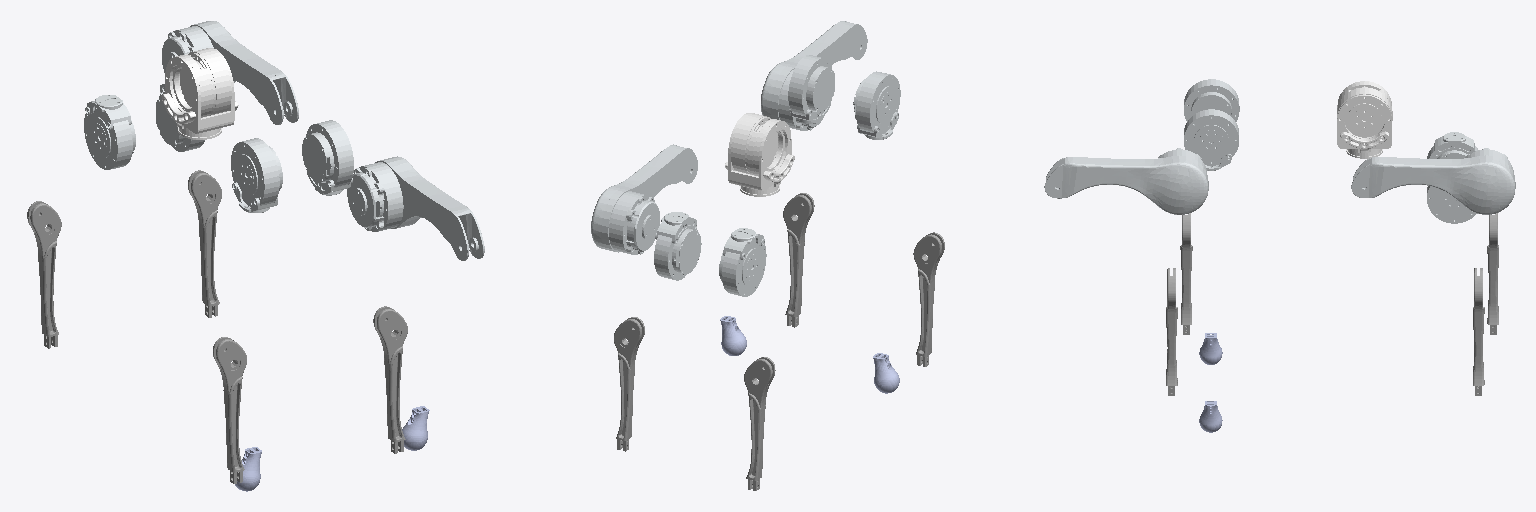
URDF robot description (Stray):
<?xml version="1.0" encoding="utf-8"?>
<!-- This URDF was automatically created by SolidWorks to URDF Exporter! Originally created by Stephen Brawner ([email redacted]) 
     Commit Version: 1.6.0-4-g7f85cfe  Build Version: 1.6.7995.38578
     For more information, please see http://wiki.ros.org/sw_urdf_exporter -->
<robot
  name="Stray">
  <link
    name="base_link">
    <visual>
      <origin
        xyz="0 0 0"
        rpy="-1.57 0 0" />
      <geometry>
        <mesh
          filename="../meshes_new/base_link.dae" scale="1.0 1.0 1.0" />
      </geometry>
      <!-- <geometry>
        <box size="0.01 0.02 0.03" />
      </geometry> -->
      <material
        name="">
        <color
          rgba="0.89804 0.91765 0.92941 1" />
      </material>
    </visual>
    <collision>
      <origin
        xyz="0 0 0"
        rpy="-1.57 0 0" />
      <geometry>
        <mesh
          filename="../meshes_new/base_link.dae" scale="1.0 1.0 1.0" />
      </geometry>
      <!-- <geometry>
        <cylinder length="0.01" radius="0.02"/>
      </geometry> -->
    </collision>
  </link>
  <!-- Fixed joint to add dummy inertia link -->
  <joint name="base_to_base_inertia" type="fixed">
    <parent link="base_link"/>
    <child link="base_inertia"/>
    <origin rpy="0 0 0" xyz="0 0 0"/>
  </joint>
  <!-- Dummy inertia link, because KDL cannot have inertia on the base link -->
  <link name="base_inertia">
    <inertial>
      <origin
        xyz="-0.00065101 -0.0025689 0.042689"
        rpy="0 0 0" />
      <mass
        value="3.7939" />
      <inertia
        ixx="0.0025246"
        ixy="5.361E-06"
        ixz="1.8395E-06"
        iyy="0.003934"
        iyz="-2.9363E-06"
        izz="0.0055285" />
    </inertial>
  </link>
  <link
    name="hip_LF">
    <inertial>
      <origin
        xyz="-0.00034836 -9.8322E-06 -0.051428"
        rpy="0 0 0" />
      <mass
        value="0.56862" />
      <inertia
        ixx="0.00060253"
        ixy="-3.1899E-08"
        ixz="3.42E-07"
        iyy="0.00032767"
        iyz="2.8857E-07"
        izz="0.00034334" />
    </inertial>
    <visual>
      <origin
        xyz="0 0 0"
        rpy="-1.57 0 0" />
      <geometry>
        <mesh
          filename="../meshes_new/hip_LF.dae" scale="1.0 1.0 1.0" />
      </geometry>
      <material
        name="">
        <color
          rgba="0.89804 0.91765 0.92941 1" />
      </material>
    </visual>
    <collision>
      <origin
        xyz="0 0 0"
        rpy="-1.57 0 0" />
      <geometry>
        <mesh
          filename="../meshes_new/hip_LF.dae" scale="1.0 1.0 1.0" />
      </geometry>
    </collision>
  </link>
  <joint
    name="hip_LF"
    type="revolute">
    <origin
      xyz="-0.06 0.028 0"
      rpy="1.5708 0 0" />
    <parent
      link="base_link" />
    <child
      link="hip_LF" />
    <axis
      xyz="0 0 -1" />
    <limit
      lower="-3.14"
      upper="3.14"
      effort="20"
      velocity="20" />
  </joint>
  <link
    name="thigh_LF">
    <inertial>
      <origin
        xyz="-0.04374 -0.026921 0.0040332"
        rpy="0 0 0" />
      <mass
        value="1.0889" />
      <inertia
        ixx="0.0034008"
        ixy="3.1205E-05"
        ixz="-4.541E-06"
        iyy="0.00068847"
        iyz="0.00024795"
        izz="0.0028056" />
    </inertial>
    <visual>
      <origin
        xyz="0 0 0"
        rpy="-1.57 0 0" />
      <geometry>
        <mesh
          filename="../meshes_new/thigh_LF.dae" scale="1.0 1.0 1.0" />
      </geometry>
      <material
        name="">
        <color
          rgba="0.89804 0.91765 0.92941 1" />
      </material>
    </visual>
    <collision>
      <origin
        xyz="0 0 0"
        rpy="0 0 0" />
      <geometry>
        <mesh
          filename="../meshes_new/thigh_LF.dae" scale="1.0 1.0 1.0" />
      </geometry>
    </collision>
  </link>
  <joint
    name="thigh_LF"
    type="revolute">
    <origin
      xyz="-0.016 -9.395E-05 -0.055"
      rpy="0 0 0" />
    <parent
      link="hip_LF" />
    <child
      link="thigh_LF" />
    <axis
      xyz="-1 0 0" />
    <limit
      lower="-3.14"
      upper="3.14"
      effort="20"
      velocity="20" />
  </joint>
  <link
    name="calf_LF">
    <inertial>
      <origin
        xyz="-0.047911 9.0833E-06 -0.013343"
        rpy="0 0 0" />
      <mass
        value="0.067809" />
      <inertia
        ixx="7.769E-06"
        ixy="-1.1361E-05"
        ixz="8.2237E-08"
        iyy="0.00027349"
        iyz="-2.0978E-11"
        izz="0.00027857" />
    </inertial>
    <visual>
      <origin
        xyz="0 0 0"
        rpy="-1.57 0 0" />
      <geometry>
        <mesh
          filename="../meshes_new/calf_LF.dae" scale="1.0 1.0 1.0" />
      </geometry>
      <material
        name="">
        <color
          rgba="0.69804 0.69804 0.69804 1" />
      </material>
    </visual>
    <collision>
      <origin
        xyz="0 0 0"
        rpy="0 0 0" />
      <geometry>
        <mesh
          filename="../meshes_new/calf_LF.dae" scale="1.0 1.0 1.0" />
      </geometry>
    </collision>
  </link>
  <joint
    name="knee_LF"
    type="revolute">
    <origin
      xyz="-0.048182 -0.20999 0.0015386"
      rpy="1.5708 0 1.5708" />
    <parent
      link="thigh_LF" />
    <child
      link="calf_LF" />
    <axis
      xyz="0 0 -1" />
    <limit
      lower="-3.14"
      upper="3.14"
      effort="20"
      velocity="20" />
  </joint>
  <link
    name="foot_LF">
    <inertial>
      <origin
        xyz="-0.0095264 0.0032554 0.060319"
        rpy="0 0 0" />
      <mass
        value="0.048935" />
      <inertia
        ixx="6.615E-06"
        ixy="-5.5927E-07"
        ixz="1.0857E-08"
        iyy="1.1309E-05"
        iyz="-5.5559E-09"
        izz="1.0523E-05" />
    </inertial>
    <visual>
      <origin
        xyz="0 0 0"
        rpy="-1.57 0 0" />
      <geometry>
        <mesh
          filename="../meshes_new/foot_LF.dae" scale="1.0 1.0 1.0" />
      </geometry>
      <material
        name="">
        <color
          rgba="0.79608 0.82353 0.93725 1" />
      </material>
    </visual>
    <collision>
      <origin
        xyz="0 0 0"
        rpy="0 0 0" />
      <geometry>
        <mesh
          filename="../meshes_new/foot_LF.dae" scale="1.0 1.0 1.0" />
      </geometry>
    </collision>
  </link>
  <joint
    name="foot_LF_fixed"
    type="fixed">
    <origin
      xyz="-0.19434 0.0051011 0.046869"
      rpy="-3.1416 0 0" />
    <parent
      link="calf_LF" />
    <child
      link="foot_LF" />
    <axis
      xyz="0 0 0" />
  </joint>
  <link
    name="hip_RF">
    <inertial>
      <origin
        xyz="0.00034836 -6.421E-06 -0.051561"
        rpy="0 0 0" />
      <mass
        value="0.56862" />
      <inertia
        ixx="0.00060253"
        ixy="-2.914E-08"
        ixz="-3.9107E-07"
        iyy="0.00032889"
        iyz="-5.9048E-08"
        izz="0.00034213" />
    </inertial>
    <visual>
      <origin
        xyz="0 0 0"
        rpy="-1.57 0 0" />
      <geometry>
        <mesh
          filename="../meshes_new/hip_RF.dae" scale="1.0 1.0 1.0" />
      </geometry>
      <material
        name="">
        <color
          rgba="0.89804 0.91765 0.92941 1" />
      </material>
    </visual>
    <collision>
      <origin
        xyz="0 0 0"
        rpy="0 0 0" />
      <geometry>
        <mesh
          filename="../meshes_new/hip_RF.dae" scale="1.0 1.0 1.0" />
      </geometry>
    </collision>
  </link>
  <joint
    name="hip_RF"
    type="revolute">
    <origin
      xyz="0.06 0.028 0"
      rpy="1.5708 0 0" />
    <parent
      link="base_link" />
    <child
      link="hip_RF" />
    <axis
      xyz="0 0 -1" />
    <limit
      lower="-3.14"
      upper="3.14"
      effort="20"
      velocity="20" />
  </joint>
  <link
    name="thigh_RF">
    <inertial>
      <origin
        xyz="0.04358 -0.02554 0.0040161"
        rpy="0 0 0" />
      <mass
        value="1.0791" />
      <inertia
        ixx="0.0034009"
        ixy="-3.1164E-05"
        ixz="4.5303E-06"
        iyy="0.00068809"
        iyz="0.0002515"
        izz="0.0028047" />
    </inertial>
    <visual>
      <origin
        xyz="0 0 0"
        rpy="-1.57 0 0" />
      <geometry>
        <mesh
          filename="../meshes_new/thigh_RF.dae" scale="1.0 1.0 1.0" />
      </geometry>
      <material
        name="">
        <color
          rgba="0.89804 0.91765 0.92941 1" />
      </material>
    </visual>
    <collision>
      <origin
        xyz="0 0 0"
        rpy="0 0 0" />
      <geometry>
        <mesh
          filename="../meshes_new/thigh_RF.dae" scale="1.0 1.0 1.0" />
      </geometry>
    </collision>
  </link>
  <joint
    name="thigh_RF"
    type="revolute">
    <origin
      xyz="0.016 9.395E-05 -0.055"
      rpy="0 0 0" />
    <parent
      link="hip_RF" />
    <child
      link="thigh_RF" />
    <axis
      xyz="1 0 0" />
    <limit
      lower="-3.14"
      upper="3.14"
      effort="20"
      velocity="20" />
  </joint>
  <link
    name="calf_RF">
    <inertial>
      <origin
        xyz="-0.047911 9.0833E-06 0.011988"
        rpy="0 0 0" />
      <mass
        value="0.067809" />
      <inertia
        ixx="7.769E-06"
        ixy="-1.1361E-05"
        ixz="8.2237E-08"
        iyy="0.00027349"
        iyz="-2.0978E-11"
        izz="0.00027857" />
    </inertial>
    <visual>
      <origin
        xyz="0 0 0"
        rpy="-1.57 0 0" />
      <geometry>
        <mesh
          filename="../meshes_new/calf_RF.dae" scale="1.0 1.0 1.0" />
      </geometry>
      <material
        name="">
        <color
          rgba="0.69804 0.69804 0.69804 1" />
      </material>
    </visual>
    <collision>
      <origin
        xyz="0 0 0"
        rpy="0 0 0" />
      <geometry>
        <mesh
          filename="../meshes_new/calf_RF.dae" scale="1.0 1.0 1.0" />
      </geometry>
    </collision>
  </link>
  <joint
    name="knee_RF"
    type="revolute">
    <origin
      xyz="0.049087 -0.20999 0.0014815"
      rpy="1.5708 0 1.5708" />
    <parent
      link="thigh_RF" />
    <child
      link="calf_RF" />
    <axis
      xyz="0 0 1" />
    <limit
      lower="-3.14"
      upper="3.14"
      effort="20"
      velocity="20" />
  </joint>
  <link
    name="foot_RF">
    <inertial>
      <origin
        xyz="-0.0095264 0.0032554 0.060319"
        rpy="0 0 0" />
      <mass
        value="0.048935" />
      <inertia
        ixx="6.615E-06"
        ixy="-5.5927E-07"
        ixz="1.0857E-08"
        iyy="1.1309E-05"
        iyz="-5.5559E-09"
        izz="1.0523E-05" />
    </inertial>
    <visual>
      <origin
        xyz="0 0 0"
        rpy="-1.57 0 0" />
      <geometry>
        <mesh
          filename="../meshes_new/foot_RF.dae" scale="1.0 1.0 1.0" />
      </geometry>
      <material
        name="">
        <color
          rgba="0.79608 0.82353 0.93725 1" />
      </material>
    </visual>
    <collision>
      <origin
        xyz="0 0 0"
        rpy="0 0 0" />
      <geometry>
        <mesh
          filename="../meshes_new/foot_RF.dae" scale="1.0 1.0 1.0" />
      </geometry>
    </collision>
  </link>
  <joint
    name="foot_RF_fixed"
    type="fixed">
    <origin
      xyz="-0.19434 0.0051011 0.0724"
      rpy="-3.1416 0 0" />
    <parent
      link="calf_RF" />
    <child
      link="foot_RF" />
    <axis
      xyz="0 0 0" />
  </joint>
  <link
    name="spine">
    <inertial>
      <origin
        xyz="0.0037215 3.158E-05 0.18705"
        rpy="0 0 0" />
      <mass
        value="1.002" />
      <inertia
        ixx="0.0016642"
        ixy="-4.6E-07"
        ixz="4.904E-05"
        iyy="0.00131736"
        iyz="2.5E-07"
        izz="0.00102826" />
    </inertial>
    <visual>
      <origin
        xyz="0 0 0"
        rpy="-1.57 0 0" />
      <geometry>
        <mesh
          filename="../meshes_new/spine.dae" scale="1.0 1.0 1.0" />
      </geometry>
      <material
        name="">
        <color
          rgba="1 1 1 1" />
      </material>
    </visual>
    <collision>
      <origin
        xyz="0 0 0"
        rpy="0 0 0" />
      <geometry>
        <mesh
          filename="../meshes_new/spine.dae" scale="1.0 1.0 1.0" />
      </geometry>
    </collision>
  </link>
  <joint
    name="spine_roll"
    type="revolute">
    <origin
      xyz="0 -0.1265 0"
      rpy="1.5708 0 0" />
    <parent
      link="base_link" />
    <child
      link="spine" />
    <axis
      xyz="0 0 1" />
    <limit
      lower="-3.14"
      upper="3.14"
      effort="20"
      velocity="20" />
  </joint>
  <link
    name="hind_body">
    <inertial>
      <origin
        xyz="0.00071641 0.0052721 0.12441"
        rpy="0 0 0" />
      <mass
        value="3.878" />
      <inertia
        ixx="0.00336"
        ixy="3.4273E-06"
        ixz="-2.1096E-07"
        iyy="0.0052012"
        iyz="2.9156E-06"
        izz="0.0060972" />
    </inertial>
    <visual>
      <origin
        xyz="0 0 0"
        rpy="-1.57 0 0" />
      <geometry>
        <mesh
          filename="../meshes_new/hind_body.dae" scale="1.0 1.0 1.0" />
      </geometry>
      <material
        name="">
        <color
          rgba="0.89804 0.91765 0.92941 1" />
      </material>
    </visual>
    <collision>
      <origin
        xyz="0 0 0"
        rpy="0 0 0" />
      <geometry>
        <mesh
          filename="../meshes_new/hind_body.dae" scale="1.0 1.0 1.0" />
      </geometry>
    </collision>
  </link>
  <joint
    name="spine_pitch"
    type="revolute">
    <origin
      xyz="0 0 0.073"
      rpy="0 0 0" />
    <parent
      link="spine" />
    <child
      link="hind_body" />
    <axis
      xyz="1 0 0" />
    <limit
      lower="-3.14"
      upper="3.14"
      effort="20"
      velocity="20" />
  </joint>
  <link
    name="hip_LH">
    <inertial>
      <origin
        xyz="-0.00034836 9.5698E-06 0.051583"
        rpy="0 0 0" />
      <mass
        value="0.56862" />
      <inertia
        ixx="0.00060253"
        ixy="2.1979E-08"
        ixz="-3.9783E-07"
        iyy="0.00032885"
        iyz="-2.4467E-07"
        izz="0.00034217" />
    </inertial>
    <visual>
      <origin
        xyz="0 0 0"
        rpy="-1.57 0 0" />
      <geometry>
        <mesh
          filename="../meshes_new/hip_LH.dae" scale="1.0 1.0 1.0" />
      </geometry>
      <material
        name="">
        <color
          rgba="0.89804 0.91765 0.92941 1" />
      </material>
    </visual>
    <collision>
      <origin
        xyz="0 0 0"
        rpy="0 0 0" />
      <geometry>
        <mesh
          filename="../meshes_new/hip_LH.dae" scale="1.0 1.0 1.0" />
      </geometry>
    </collision>
  </link>
  <joint
    name="hip_LH"
    type="revolute">
    <origin
      xyz="-0.06 0 0.1905"
      rpy="0 0 0" />
    <parent
      link="hind_body" />
    <child
      link="hip_LH" />
    <axis
      xyz="0 0 1" />
    <limit
      lower="-3.14"
      upper="3.14"
      effort="20"
      velocity="20" />
  </joint>
  <link
    name="thigh_LH">
    <inertial>
      <origin
        xyz="-0.04374 -0.026921 0.0040332"
        rpy="0 0 0" />
      <mass
        value="1.0889" />
      <inertia
        ixx="0.0034008"
        ixy="3.1205E-05"
        ixz="-4.541E-06"
        iyy="0.00068847"
        iyz="0.00024795"
        izz="0.0028056" />
    </inertial>
    <visual>
      <origin
        xyz="0 0 0"
        rpy="-1.57 0 0" />
      <geometry>
        <mesh
          filename="../meshes_new/thigh_LH.dae" scale="1.0 1.0 1.0" />
      </geometry>
      <material
        name="">
        <color
          rgba="0.89804 0.91765 0.92941 1" />
      </material>
    </visual>
    <collision>
      <origin
        xyz="0 0 0"
        rpy="0 0 0" />
      <geometry>
        <mesh
          filename="../meshes_new/thigh_LH.dae" scale="1.0 1.0 1.0" />
      </geometry>
    </collision>
  </link>
  <joint
    name="thigh_LH"
    type="revolute">
    <origin
      xyz="-0.016 9.395E-05 0.055"
      rpy="0 0 0" />
    <parent
      link="hip_LH" />
    <child
      link="thigh_LH" />
    <axis
      xyz="-1 0 0" />
    <limit
      lower="-3.14"
      upper="3.14"
      effort="20"
      velocity="20" />
  </joint>
  <link
    name="calf_LH">
    <inertial>
      <origin
        xyz="-0.047911 9.0833E-06 -0.013343"
        rpy="0 0 0" />
      <mass
        value="0.067809" />
      <inertia
        ixx="7.769E-06"
        ixy="-1.1361E-05"
        ixz="8.2237E-08"
        iyy="0.00027349"
        iyz="-2.0978E-11"
        izz="0.00027857" />
    </inertial>
    <visual>
      <origin
        xyz="0 0 0"
        rpy="-1.57 0 0" />
      <geometry>
        <mesh
          filename="../meshes_new/calf_LH.dae" scale="1.0 1.0 1.0" />
      </geometry>
      <material
        name="">
        <color
          rgba="0.69804 0.69804 0.69804 1" />
      </material>
    </visual>
    <collision>
      <origin
        xyz="0 0 0"
        rpy="0 0 0" />
      <geometry>
        <mesh
          filename="../meshes_new/calf_LH.dae" scale="1.0 1.0 1.0" />
      </geometry>
    </collision>
  </link>
  <joint
    name="knee_LH"
    type="revolute">
    <origin
      xyz="-0.048182 -0.20999 0.0015386"
      rpy="1.5708 0 1.5708" />
    <parent
      link="thigh_LH" />
    <child
      link="calf_LH" />
    <axis
      xyz="0 0 -1" />
    <limit
      lower="-3.14"
      upper="3.14"
      effort="20"
      velocity="20" />
  </joint>
  <link
    name="foot_LH">
    <inertial>
      <origin
        xyz="-0.0095264 0.0032554 0.060319"
        rpy="0 0 0" />
      <mass
        value="0.048935" />
      <inertia
        ixx="6.615E-06"
        ixy="-5.5927E-07"
        ixz="1.0857E-08"
        iyy="1.1309E-05"
        iyz="-5.5559E-09"
        izz="1.0523E-05" />
    </inertial>
    <visual>
      <origin
        xyz="0 0 0"
        rpy="-1.57 0 0" />
      <geometry>
        <mesh
          filename="../meshes_new/foot_LH.dae" scale="1.0 1.0 1.0" />
      </geometry>
      <material
        name="">
        <color
          rgba="0.79608 0.82353 0.93725 1" />
      </material>
    </visual>
    <collision>
      <origin
        xyz="0 0 0"
        rpy="0 0 0" />
      <geometry>
        <mesh
          filename="../meshes_new/foot_LH.dae" scale="1.0 1.0 1.0" />
      </geometry>
    </collision>
  </link>
  <joint
    name="foot_LH_fixed"
    type="fixed">
    <origin
      xyz="-0.19434 0.0049011 0.046869"
      rpy="-3.1416 0 0" />
    <parent
      link="calf_LH" />
    <child
      link="foot_LH" />
    <axis
      xyz="0 0 0" />
  </joint>
  <link
    name="hip_RH">
    <inertial>
      <origin
        xyz="0.00034836 6.4206E-06 0.051561"
        rpy="0 0 0" />
      <mass
        value="0.56862" />
      <inertia
        ixx="0.00060253"
        ixy="2.914E-08"
        ixz="3.9107E-07"
        iyy="0.00032889"
        iyz="-5.9048E-08"
        izz="0.00034213" />
    </inertial>
    <visual>
      <origin
        xyz="0 0 0"
        rpy="-1.57 0 0" />
      <geometry>
        <mesh
          filename="../meshes_new/hip_RH.dae" scale="1.0 1.0 1.0" />
      </geometry>
      <material
        name="">
        <color
          rgba="0.89804 0.91765 0.92941 1" />
      </material>
    </visual>
    <collision>
      <origin
        xyz="0 0 0"
        rpy="0 0 0" />
      <geometry>
        <mesh
          filename="../meshes_new/hip_RH.dae" scale="1.0 1.0 1.0" />
      </geometry>
    </collision>
  </link>
  <joint
    name="hip_RH"
    type="revolute">
    <origin
      xyz="0.06 0 0.19061"
      rpy="0 0 0" />
    <parent
      link="hind_body" />
    <child
      link="hip_RH" />
    <axis
      xyz="0 0 1" />
  </joint>
  <link
    name="thigh_RH">
    <inertial>
      <origin
        xyz="0.04358 -0.02554 0.0040161"
        rpy="0 0 0" />
      <mass
        value="1.0791" />
      <inertia
        ixx="0.0034009"
        ixy="-3.1164E-05"
        ixz="4.5303E-06"
        iyy="0.00068809"
        iyz="0.0002515"
        izz="0.0028047" />
    </inertial>
    <visual>
      <origin
        xyz="0 0 0"
        rpy="-1.57 0 0" />
      <geometry>
        <mesh
          filename="../meshes_new/thigh_RH.dae" scale="1.0 1.0 1.0" />
      </geometry>
      <material
        name="">
        <color
          rgba="0.89804 0.91765 0.92941 1" />
      </material>
    </visual>
    <collision>
      <origin
        xyz="0 0 0"
        rpy="0 0 0" />
      <geometry>
        <mesh
          filename="../meshes_new/thigh_RH.dae" scale="1.0 1.0 1.0" />
      </geometry>
    </collision>
  </link>
  <joint
    name="thigh_RH"
    type="revolute">
    <origin
      xyz="0.016 -9.3951E-05 0.055"
      rpy="0 0 0" />
    <parent
      link="hip_RH" />
    <child
      link="thigh_RH" />
    <axis
      xyz="1 0 0" />
    <limit
      lower="-3.14"
      upper="3.14"
      effort="20"
      velocity="20" />
  </joint>
  <link
    name="calf_RH">
    <inertial>
      <origin
        xyz="-0.047911 9.0833E-06 0.011988"
        rpy="0 0 0" />
      <mass
        value="0.067809" />
      <inertia
        ixx="7.769E-06"
        ixy="-1.1361E-05"
        ixz="8.2237E-08"
        iyy="0.00027349"
        iyz="-2.0978E-11"
        izz="0.00027857" />
    </inertial>
    <visual>
      <origin
        xyz="0 0 0"
        rpy="-1.57 0 0" />
      <geometry>
        <mesh
          filename="../meshes_new/calf_RH.dae" scale="1.0 1.0 1.0" />
      </geometry>
      <material
        name="">
        <color
          rgba="0.69804 0.69804 0.69804 1" />
      </material>
    </visual>
    <collision>
      <origin
        xyz="0 0 0"
        rpy="0 0 0" />
      <geometry>
        <mesh
          filename="../meshes_new/calf_RH.dae" scale="1.0 1.0 1.0" />
      </geometry>
    </collision>
  </link>
  <joint
    name="knee_RH"
    type="revolute">
    <origin
      xyz="0.049087 -0.20999 0.0014815"
      rpy="1.5708 0 1.5708" />
    <parent
      link="thigh_RH" />
    <child
      link="calf_RH" />
    <axis
      xyz="0 0 1" />
    <limit
      lower="-3.14"
      upper="3.14"
      effort="20"
      velocity="20" />
  </joint>
  <link
    name="foot_RH">
    <inertial>
      <origin
        xyz="-0.0095264 0.0032554 0.060319"
        rpy="0 0 0" />
      <mass
        value="0.048935" />
      <inertia
        ixx="6.615E-06"
        ixy="-5.5927E-07"
        ixz="1.0857E-08"
        iyy="1.1309E-05"
        iyz="-5.5559E-09"
        izz="1.0523E-05" />
    </inertial>
    <visual>
      <origin
        xyz="0 0 0"
        rpy="-1.57 0 0" />
      <geometry>
        <mesh
          filename="../meshes_new/foot_RH.dae" scale="1.0 1.0 1.0" />
      </geometry>
      <material
        name="">
        <color
          rgba="0.79608 0.82353 0.93725 1" />
      </material>
    </visual>
    <collision>
      <origin
        xyz="0 0 0"
        rpy="0 0 0" />
      <geometry>
        <mesh
          filename="../meshes_new/foot_RH.dae" scale="1.0 1.0 1.0" />
      </geometry>
    </collision>
  </link>
  <joint
    name="foot_RH_fixed"
    type="fixed">
    <origin
      xyz="-0.19434 0.0049011 0.0724"
      rpy="-3.1416 0 0" />
    <parent
      link="calf_RH" />
    <child
      link="foot_RH" />
    <axis
      xyz="0 0 0" />
  </joint>
</robot>

--- What the picture shows (computed from the rendered views, not written in the file) ---
The picture shows the robot from 3 angles, left to right: view 1: azimuth 30°, elevation 25°; view 2: azimuth 150°, elevation 25°; view 3: azimuth 270°, elevation 25°; orthographic projection.
Robot: Stray — 20 links, 19 joints (14 revolute, 5 fixed); root link base_link; default pose: every joint at zero.
Visible links, largest first — view 1: thigh_RH, spine, thigh_RF, hip_LH, hip_LF, hip_RH, calf_LF, calf_RH, calf_RF, calf_LH, hip_RF, foot_RH (+1 smaller); view 2: thigh_RF, spine, thigh_RH, hip_RF, hip_LH, hip_RH, hip_LF, calf_RH, calf_LF, calf_LH, calf_RF, foot_LH (+1 smaller); view 3: thigh_RH, thigh_RF, spine, hip_RH, hip_LH, calf_RH, calf_RF, calf_LF, calf_LH, hip_RF, hip_LF, foot_RH (+1 smaller).
Boxes of the visible links, x1,y1,x2,y2 form: thigh_RH: (347,156,484,260); spine: (161,48,238,139); thigh_RF: (162,21,298,124); hip_LH: (231,138,282,212); hip_LF: (84,95,135,169); hip_RH: (302,120,353,195); calf_LF: (27,201,61,348); calf_RH: (373,306,407,453); calf_RF: (188,170,221,317); calf_LH: (213,337,246,483); hip_RF: (156,84,204,151); foot_RH: (402,406,429,450); thigh_RF: (591,144,697,254); spine: (725,113,794,196); thigh_RH: (761,21,867,130); hip_RF: (654,212,701,280); hip_LH: (853,71,900,139); hip_RH: (788,55,834,123); hip_LF: (719,228,766,296); calf_RH: (783,193,814,327); calf_LF: (744,357,775,490); calf_LH: (913,232,944,366); calf_RF: (614,317,644,451); foot_LH: (873,353,899,393); thigh_RH: (1044,148,1208,214); thigh_RF: (1351,148,1515,214); spine: (1337,81,1392,158); hip_RH: (1184,109,1238,170); hip_LH: (1184,79,1239,121); calf_RH: (1166,268,1177,395); calf_RF: (1473,268,1484,395); calf_LF: (1487,213,1498,334); calf_LH: (1180,213,1192,334); hip_RF: (1427,186,1476,223); hip_LF: (1427,132,1477,158); foot_RH: (1199,401,1222,432).
Size in the robot's own frame: 0.3729 by 0.8107 by 0.5603 metres.
13 mesh visuals loaded from 19 distinct referenced files (13 Collada DAE); not drawn: 6 (reference not matched to a file when rendering).
